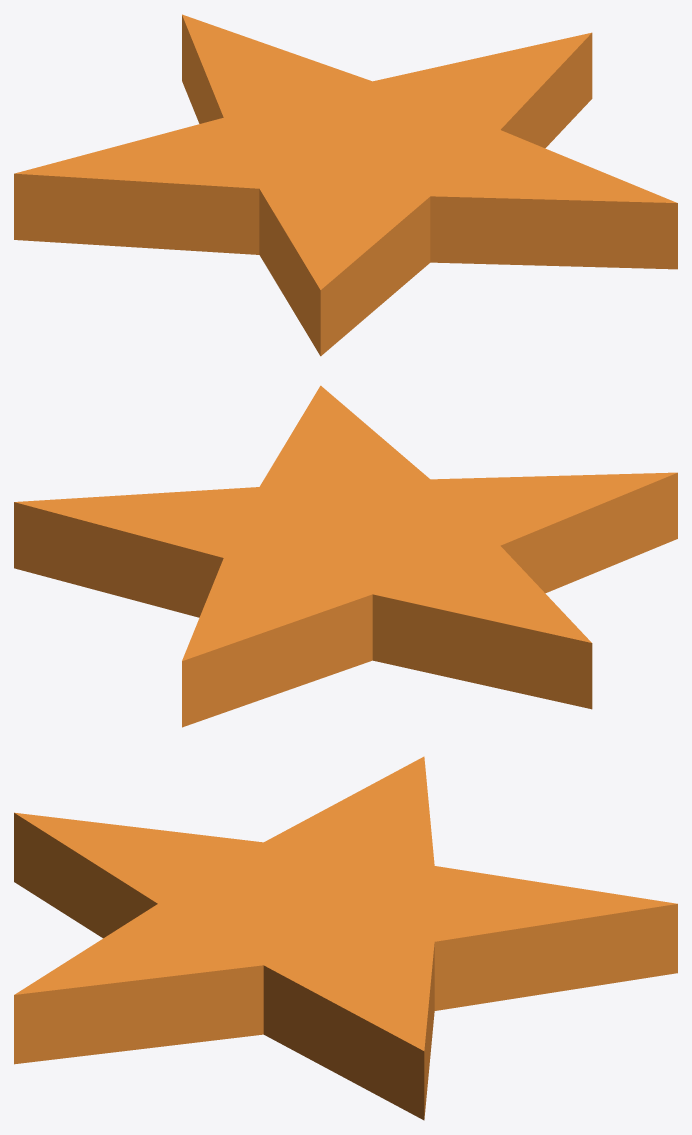
File: starfish.fbx
3 renders of one model, top to bottom at view 1: azimuth 30°, elevation 25°; view 2: azimuth 150°, elevation 25°; view 3: azimuth 270°, elevation 25°, orthographic. The views are drawn at different scales.
Parts seen in each view (by area): view 1: starfish; view 2: starfish; view 3: starfish.
Boxes of the visible parts, left/top/right/bottom form: starfish: left=14, top=14, right=677, bottom=356; starfish: left=14, top=385, right=677, bottom=727; starfish: left=14, top=756, right=677, bottom=1120.
Size of the model in its own units: 0.2283 by 0.025 by 0.2171.
